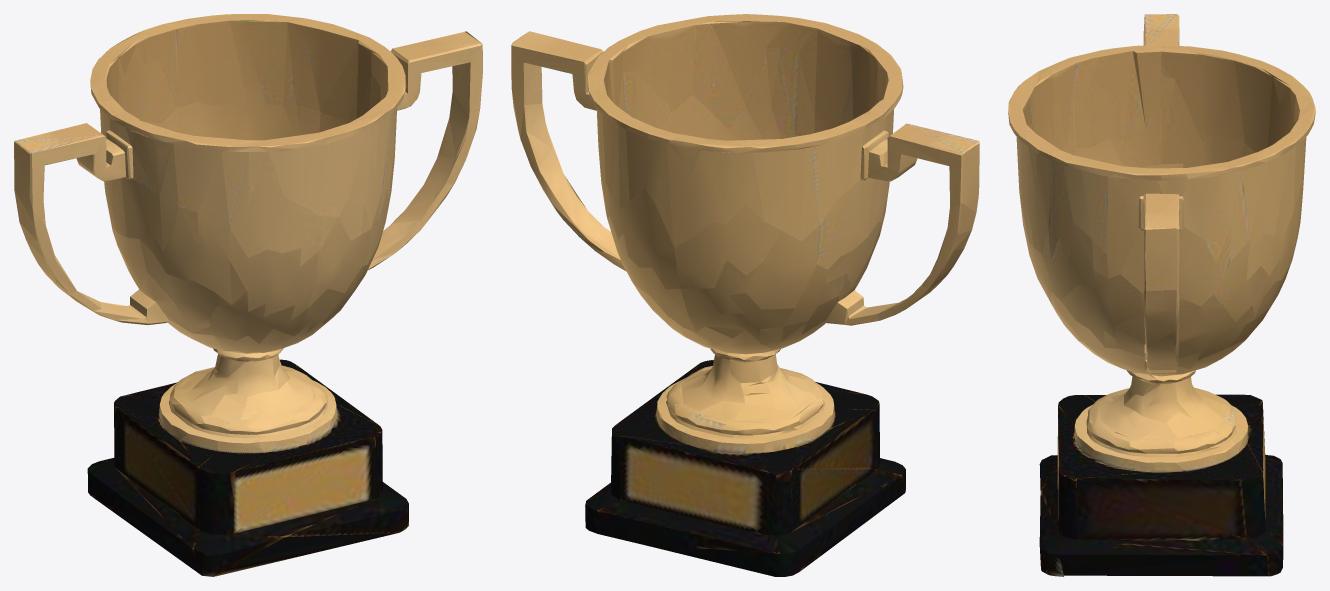
Rendered from trophy.glb.
3 views of the same model, side by side, from view 1: azimuth 30°, elevation 25°; view 2: azimuth 150°, elevation 25°; view 3: azimuth 270°, elevation 25° (orthographic). The views are drawn at different scales.
Bounding box in the file's own units: 1.9 × 1.72 × 1.15.
1 material, 1 textured.
